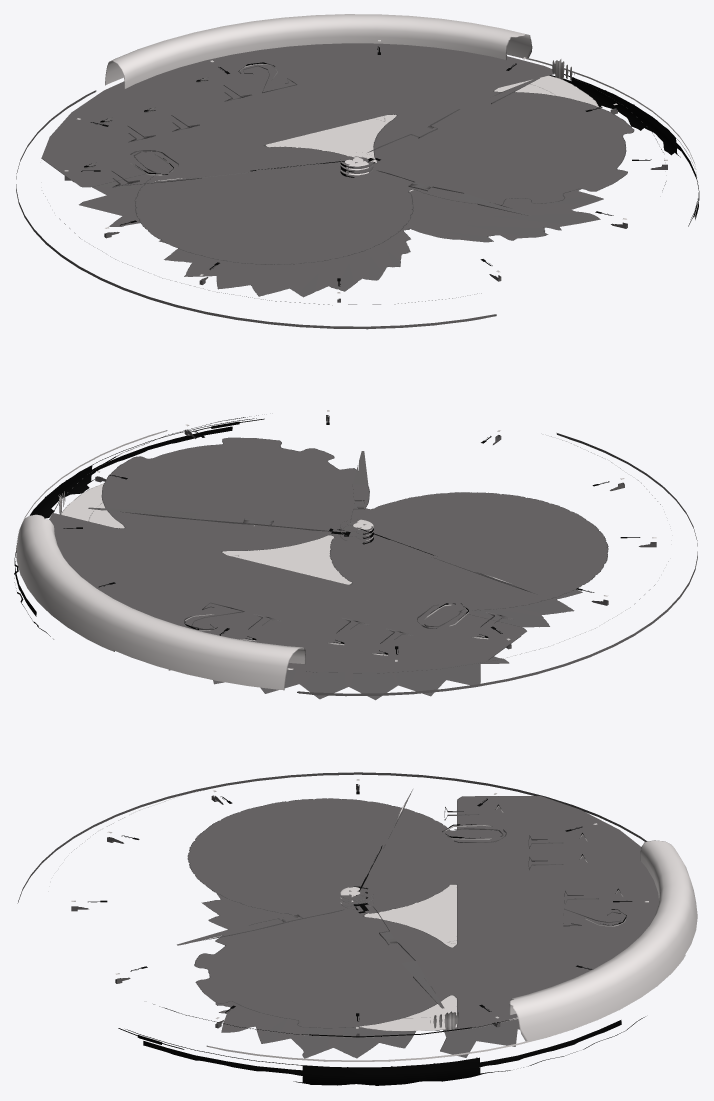
The model's file is clock  (3).fbx.
3 renders of one model, top to bottom at view 1: azimuth 30°, elevation 25°; view 2: azimuth 150°, elevation 25°; view 3: azimuth 270°, elevation 25°, orthographic.
Visible parts, largest first — view 1: clock; view 2: clock; view 3: clock.
Boxes of the visible parts, x1,y1,x2,y2 form: clock: (16, 14, 699, 329); clock: (14, 410, 697, 700); clock: (17, 772, 697, 1085).
Bounding box in the file's own units: 29.78 × 2.98 × 29.78.
